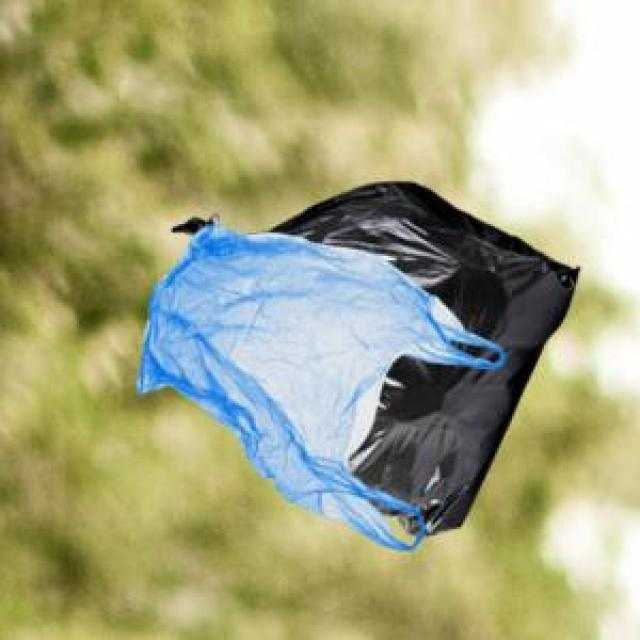miscellaneous trash: (169, 177, 574, 533)
